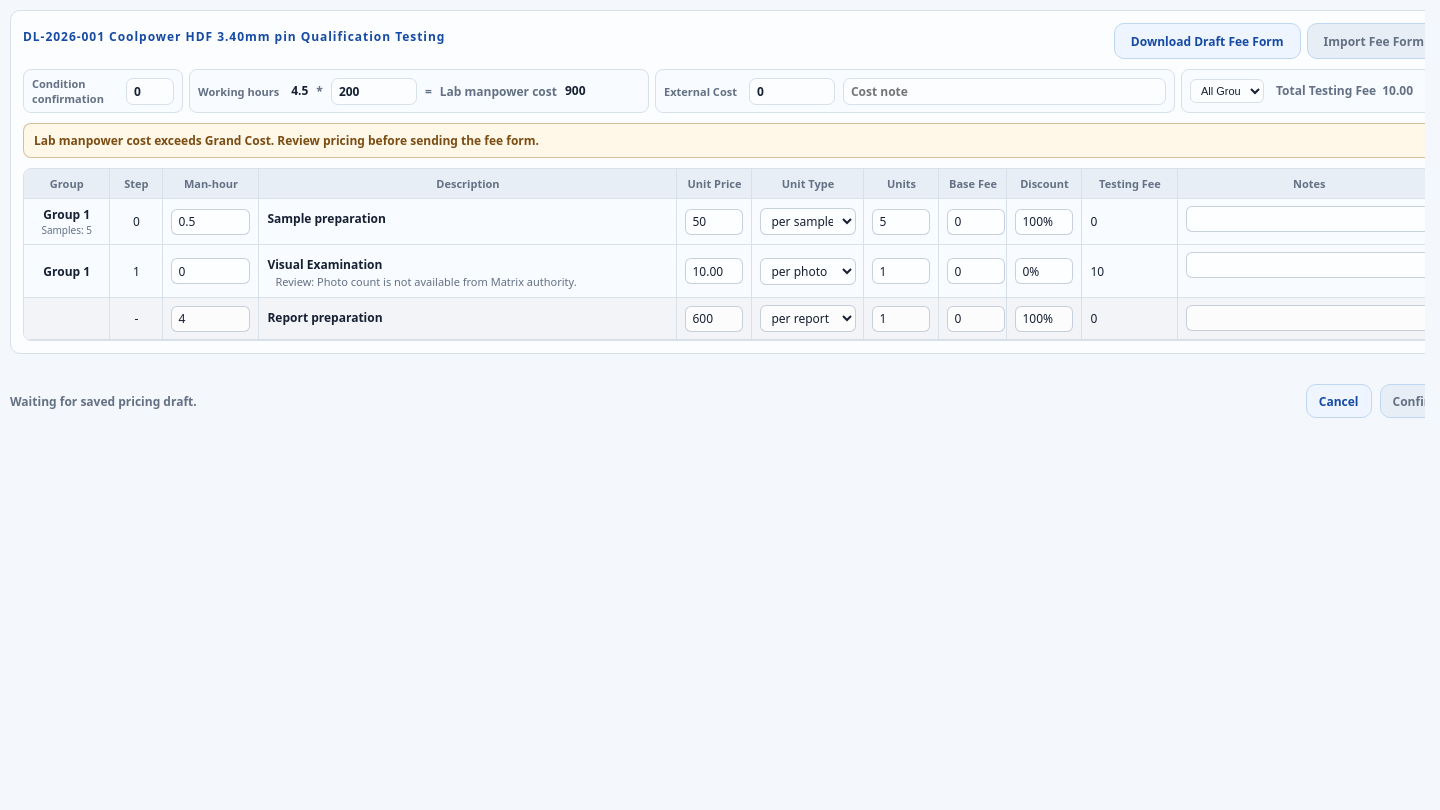
Test case: FeeEvaluationReviewExportPage › explains a confirmed Fee preview when the project folder is unavailable
Click the button "Download Draft Fee Form". click: point(1207, 41)
box: [1114, 23, 1301, 59]
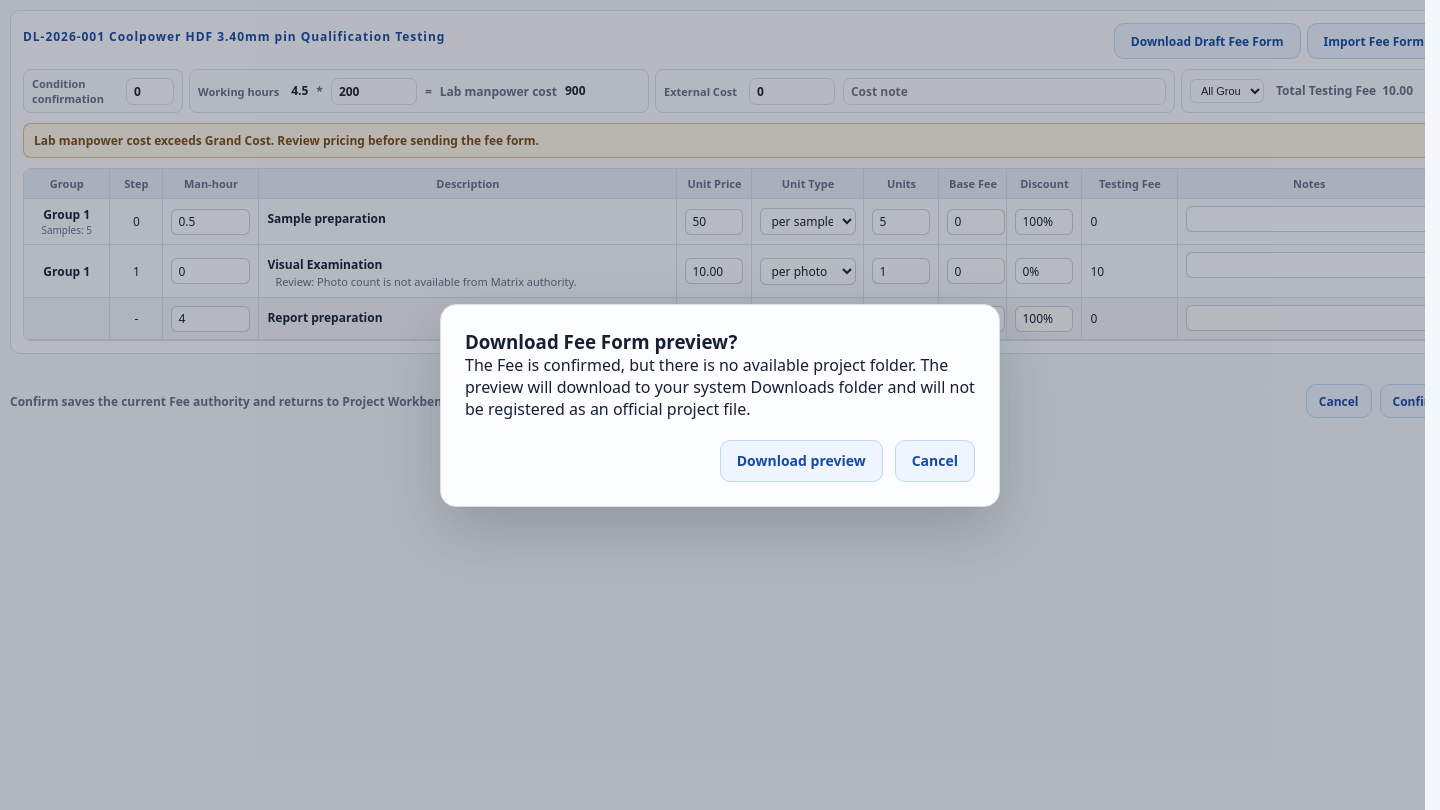
Expected: the text "no available project folder" is shown, [465, 354, 975, 420]
Expected: the button "Download preview" is shown, [720, 440, 883, 482]
